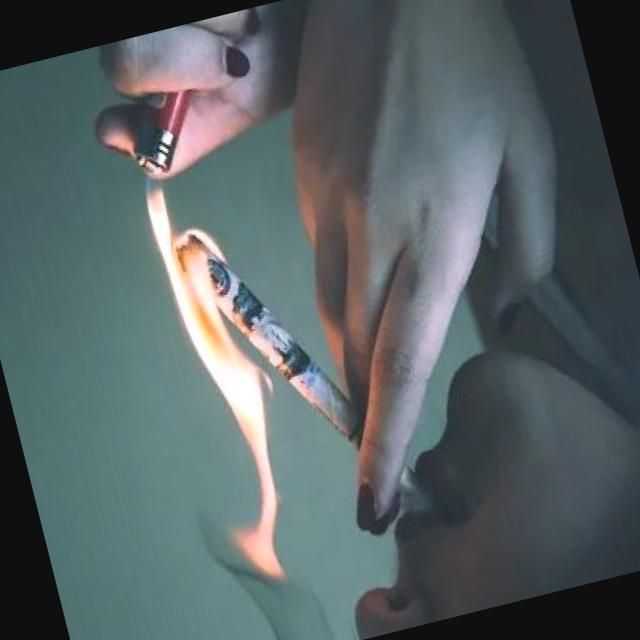cigarette: (162, 175, 429, 553)
